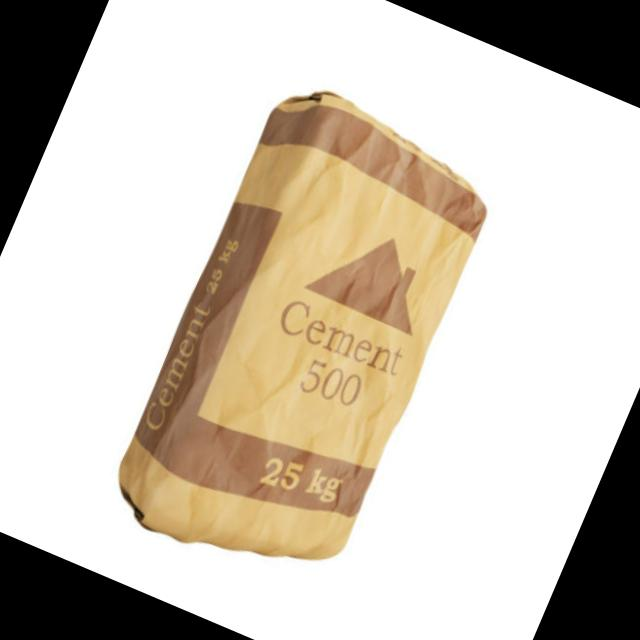KantongSemen: (98, 69, 510, 604)
